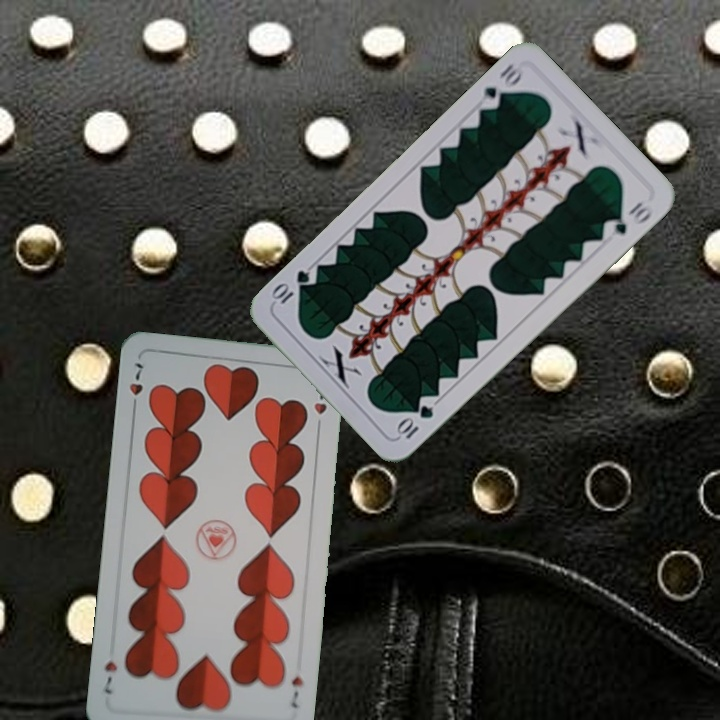G10: (475, 59, 525, 113), (393, 401, 436, 442)
H7: (125, 359, 146, 415), (286, 672, 305, 711)
